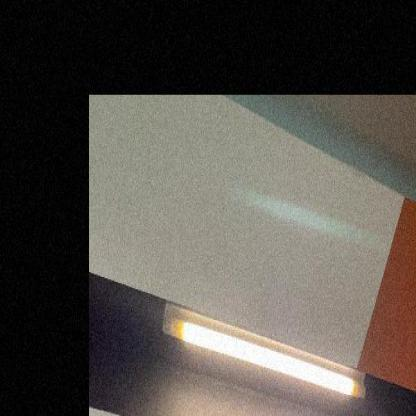light_on: (158, 292, 368, 411)
